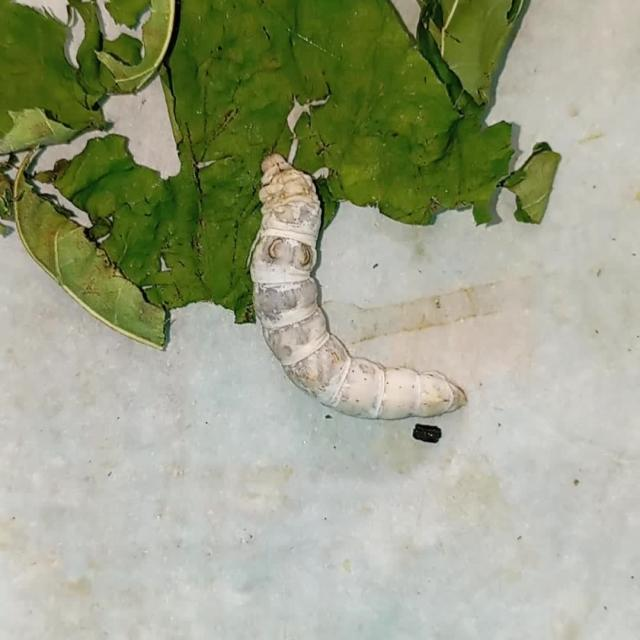Grasserie: (227, 135, 477, 436)
